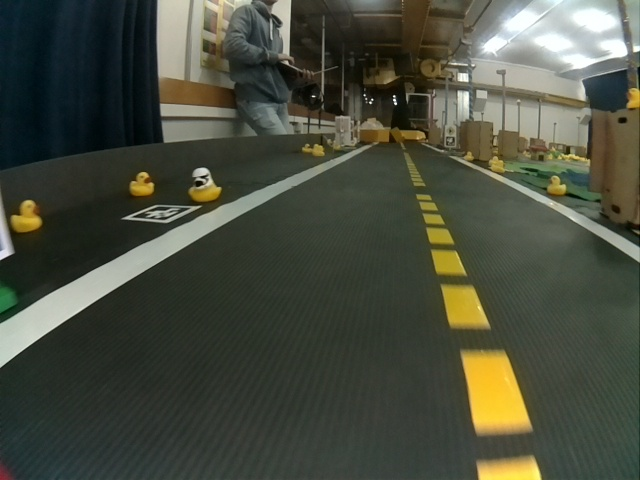Duckie: (190, 170, 221, 200), (13, 201, 42, 232), (130, 173, 154, 197), (547, 175, 568, 196), (626, 86, 638, 107), (492, 162, 504, 172)
QR code: (124, 206, 199, 224)
